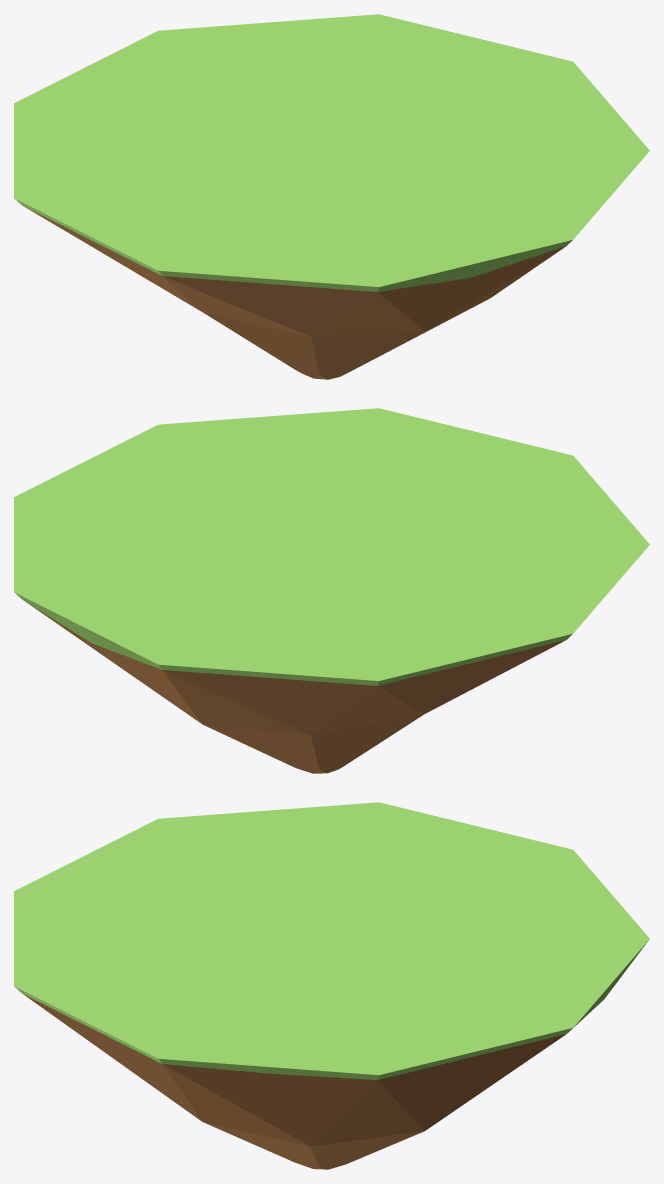
3 renders of one model, top to bottom at view 1: azimuth 30°, elevation 25°; view 2: azimuth 150°, elevation 25°; view 3: azimuth 270°, elevation 25°, orthographic.
Visible parts, largest first — view 1: IslandLarge; view 2: IslandLarge; view 3: IslandLarge.
Boxes of the visible parts, <box> form: IslandLarge: <box>14,14,649,379</box>; IslandLarge: <box>14,408,649,773</box>; IslandLarge: <box>14,802,649,1169</box>.
Bounding box in the file's own units: 4.34 × 1.67 × 4.28.
